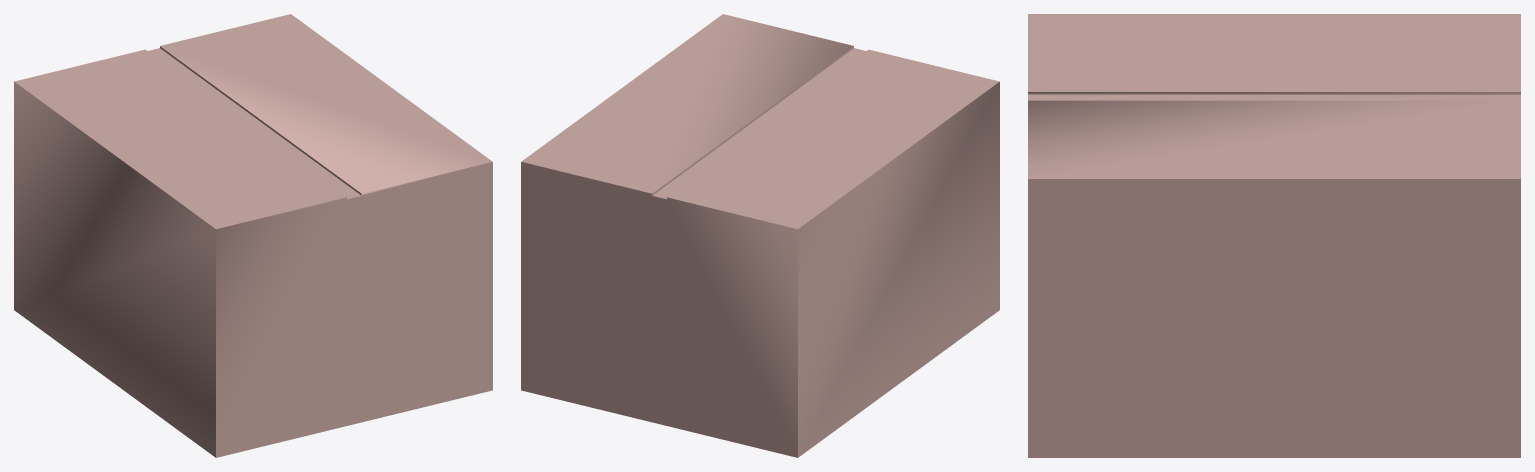
Rendered from Box_Small.fbx.
3 renders of one model, left to right at view 1: azimuth 30°, elevation 25°; view 2: azimuth 150°, elevation 25°; view 3: azimuth 270°, elevation 25°, orthographic. The views are drawn at different scales.
Visible parts, largest first — view 1: Box_S; view 2: Box_S; view 3: Box_S.
Part boxes in pixels (left/top/right/bottom): Box_S: left=14, top=14, right=492, bottom=457; Box_S: left=521, top=14, right=999, bottom=457; Box_S: left=1028, top=14, right=1520, bottom=457.
Bounding box in the file's own units: 19 × 15 × 24.
